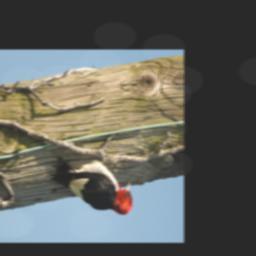Woodpecker: (50, 143, 133, 218)
